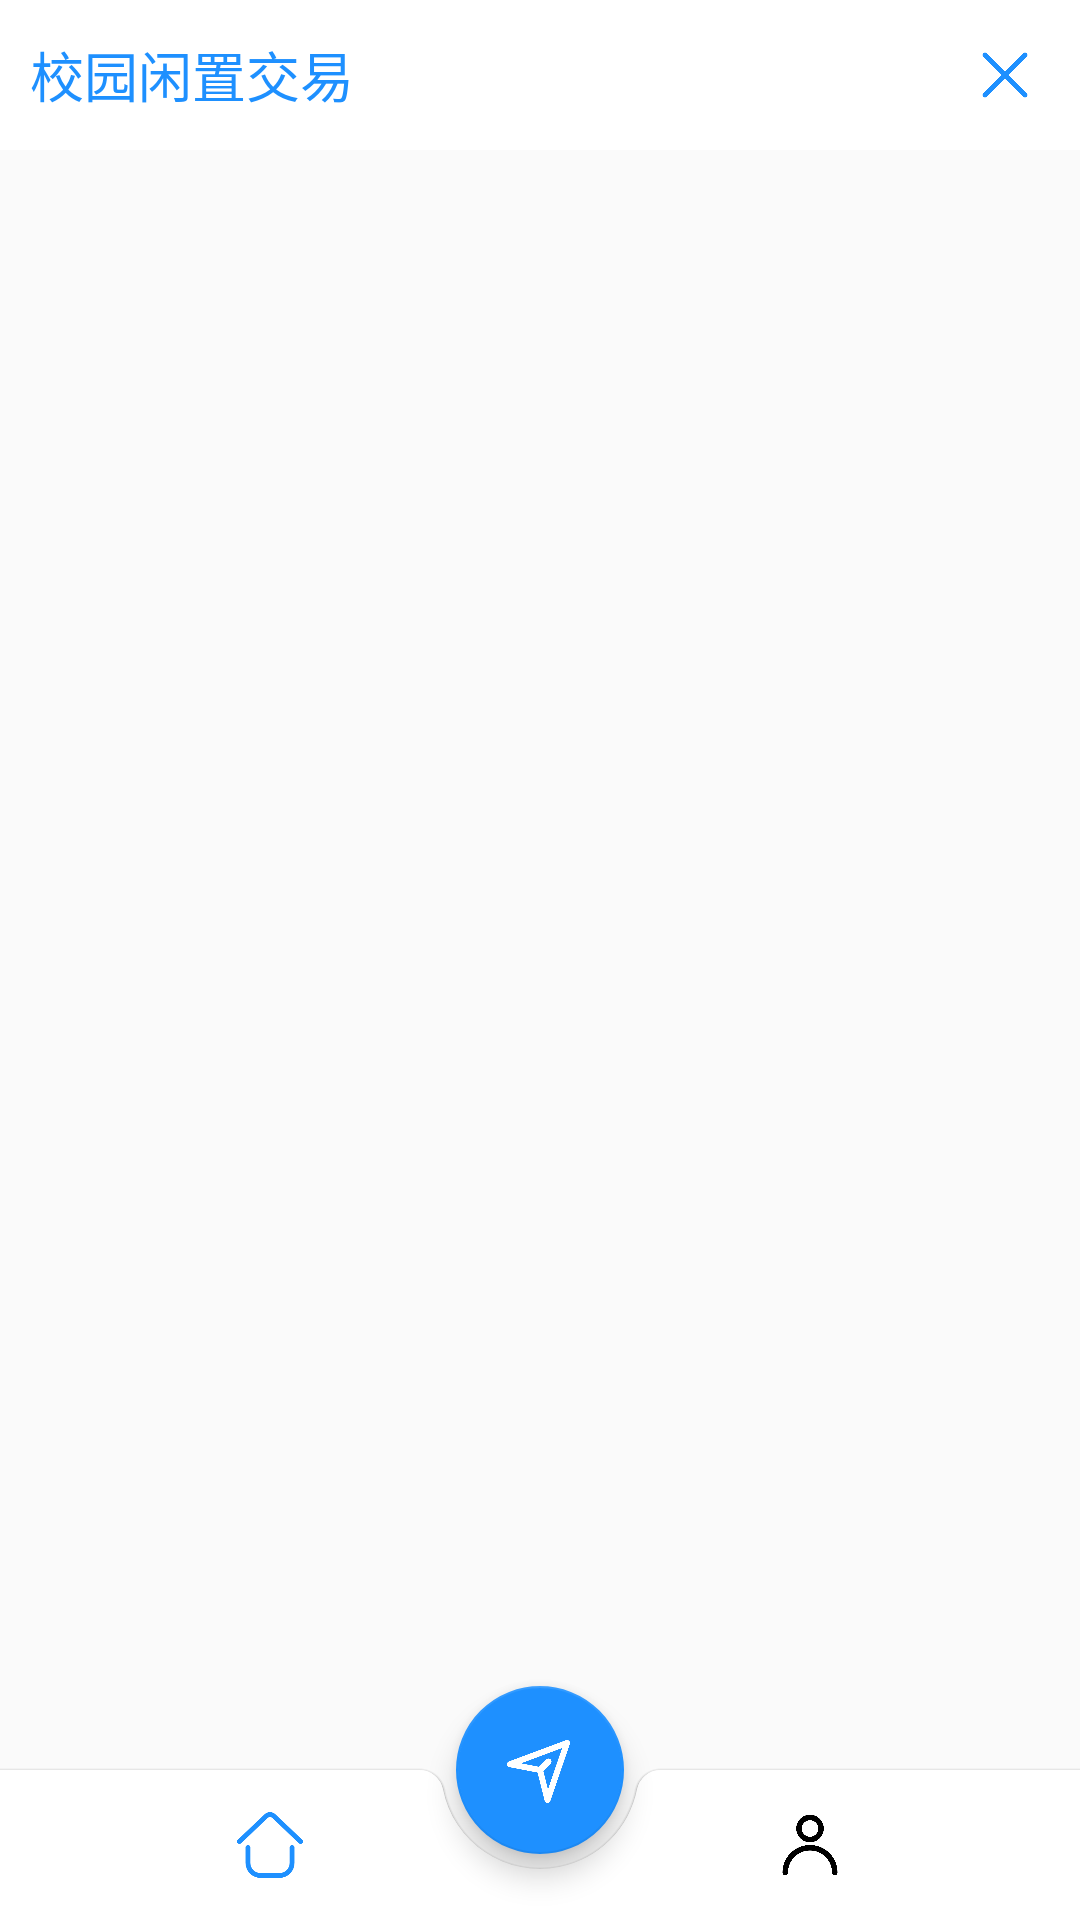

Named icons in this screenshot (1080 × 1920) and their centers, point (x, y):
close: point (1005, 75)
publish: point (540, 1770)
